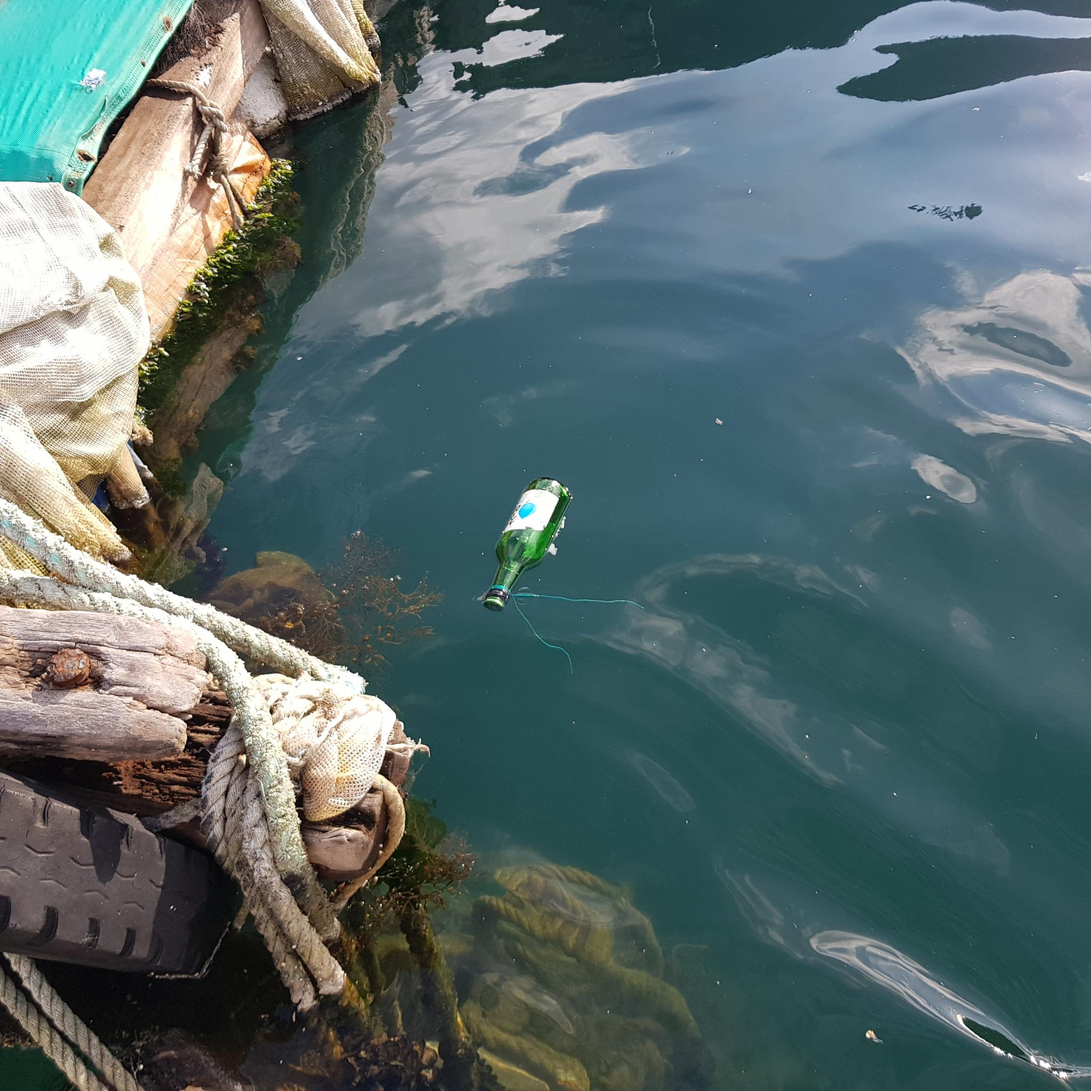sampah_terapung: (484, 478, 572, 613)
